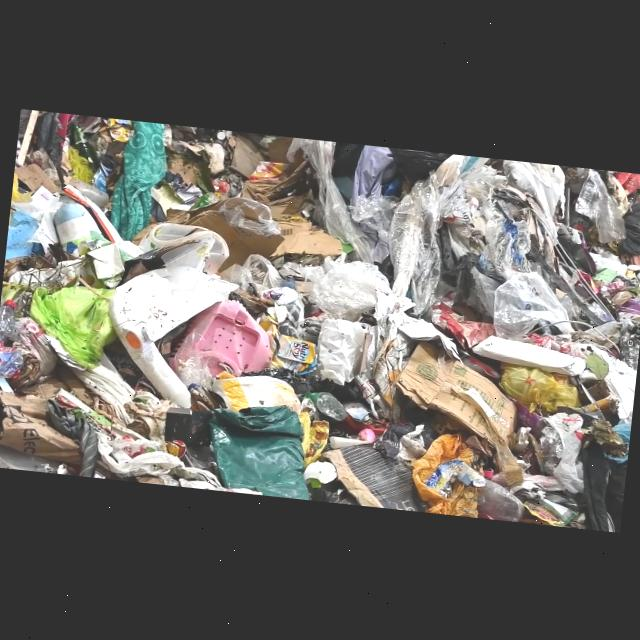trash: (0, 297, 30, 381), (300, 388, 350, 422), (187, 188, 224, 217)
